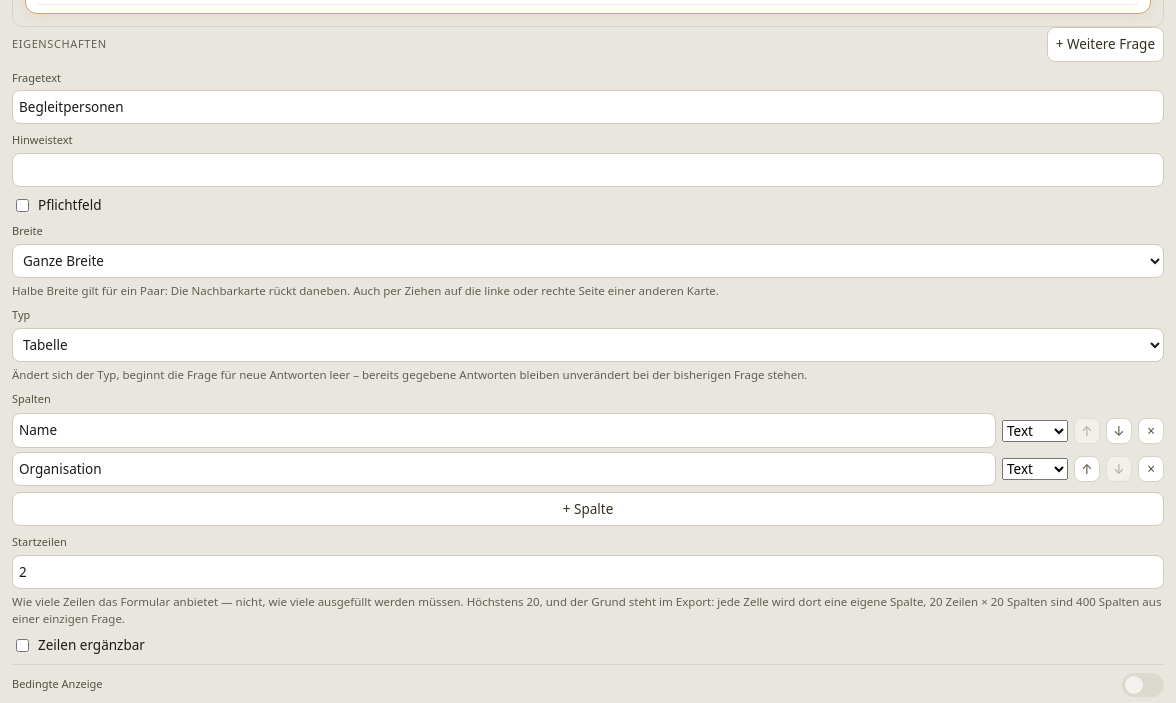
Test: Startzeilen und Obergrenze › carries the Obergrenze up when the Startzeilen pass it
This screenshot has width=1176, height=703.
(page scrolled)
Click the checkbox labelled "Zeilen ergänzbar": click(22, 646) [16,639,29,652]
(page scrolled)
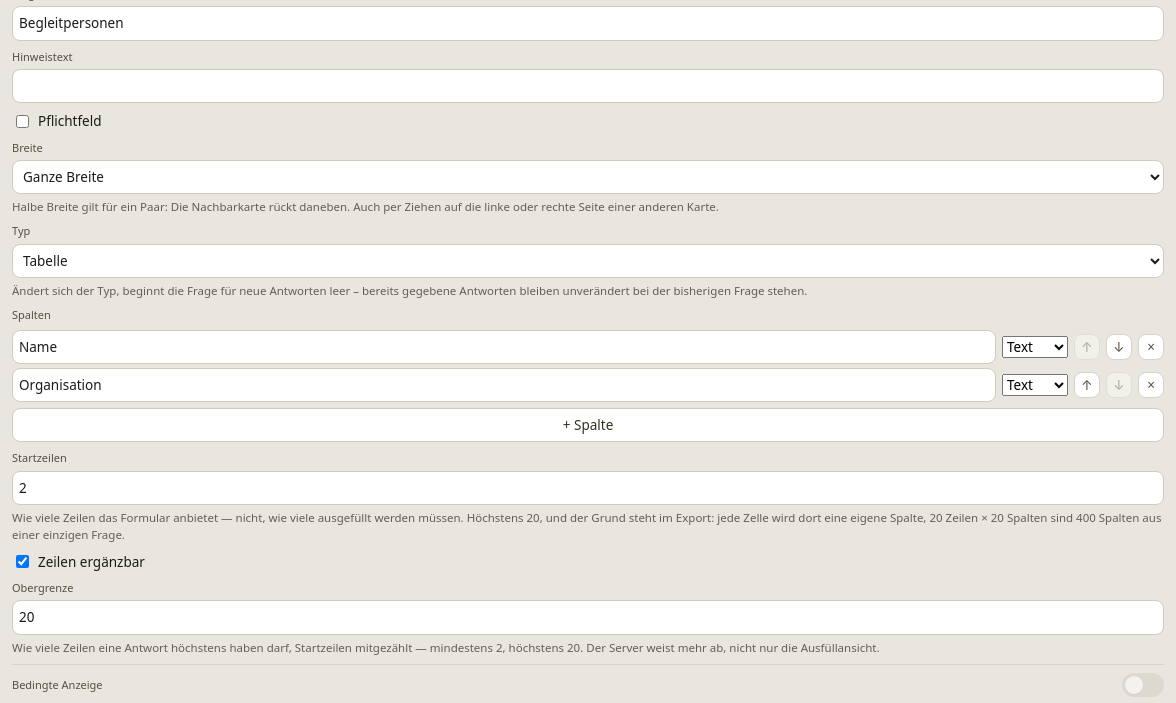
Replace the text in the number field labelled "Obergrenze" with "3": (588, 618) [12,600,1164,635]
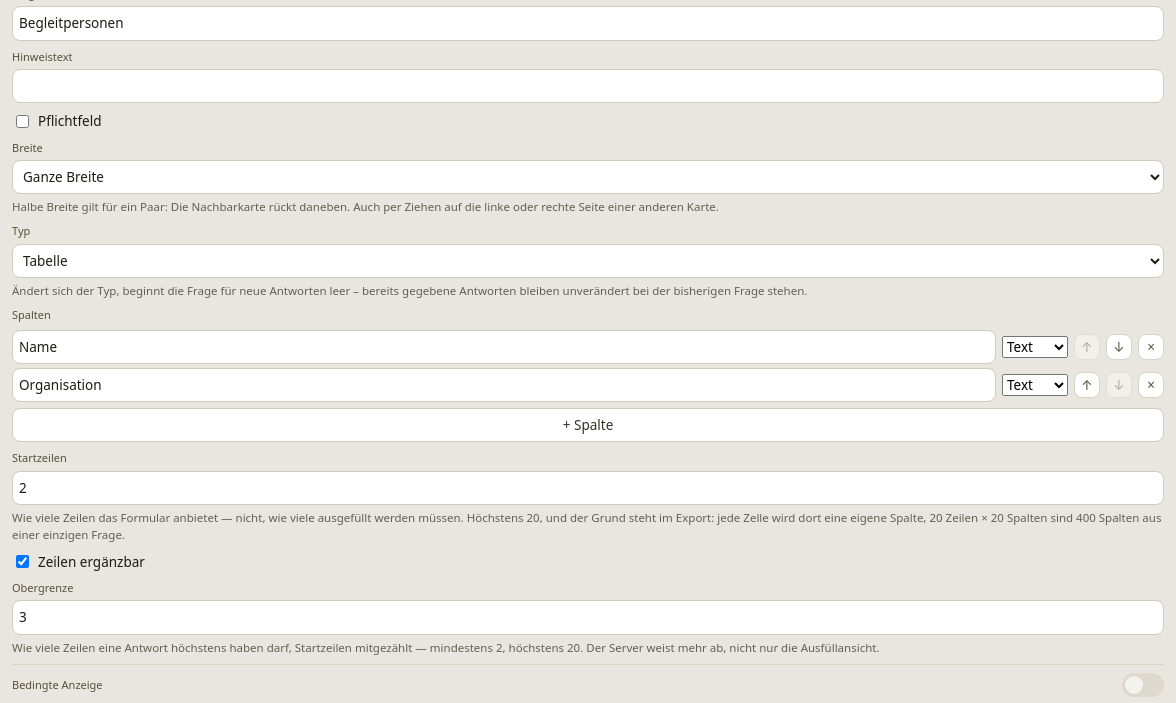
Replace the text in the number field labelled "Startzeilen" with "7": (588, 488) [12,471,1164,505]
(page scrolled)
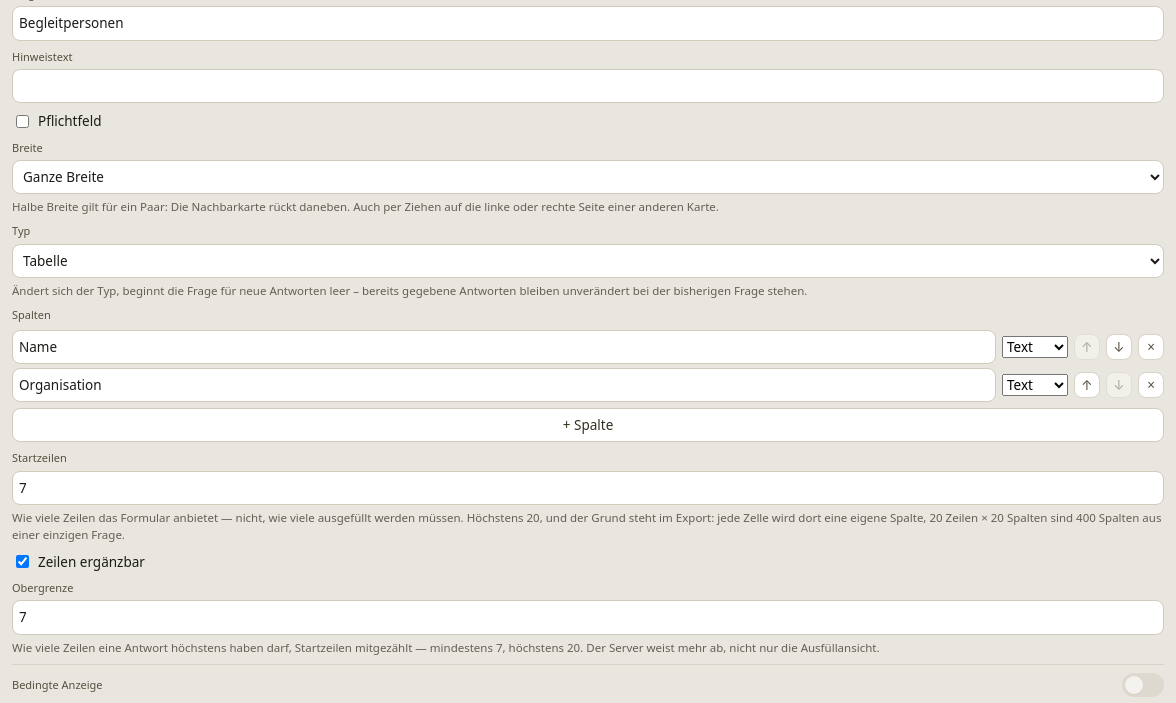
Check: the number field labelled "Obergrenze" holds "7", box [12,600,1164,635]
